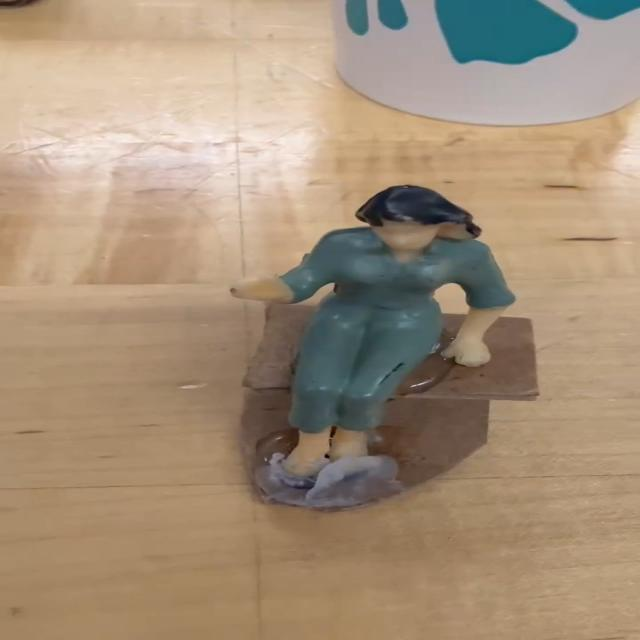Authorized: (212, 172, 522, 482)
